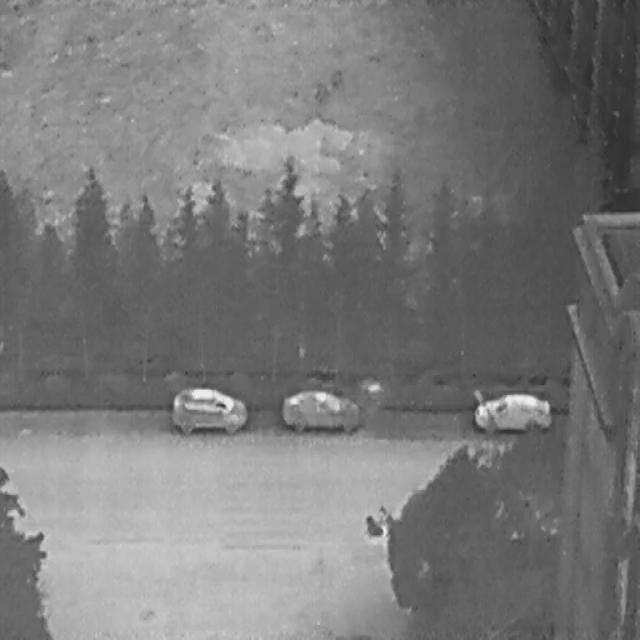Car: (170, 383, 246, 432), (474, 388, 552, 433), (280, 389, 363, 431)
